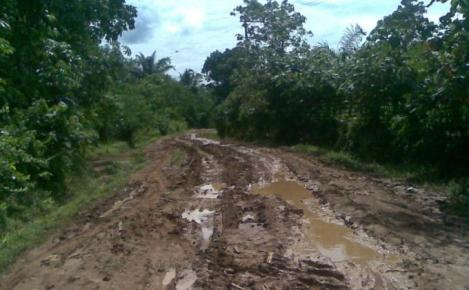Pothole: (225, 158, 425, 288)
